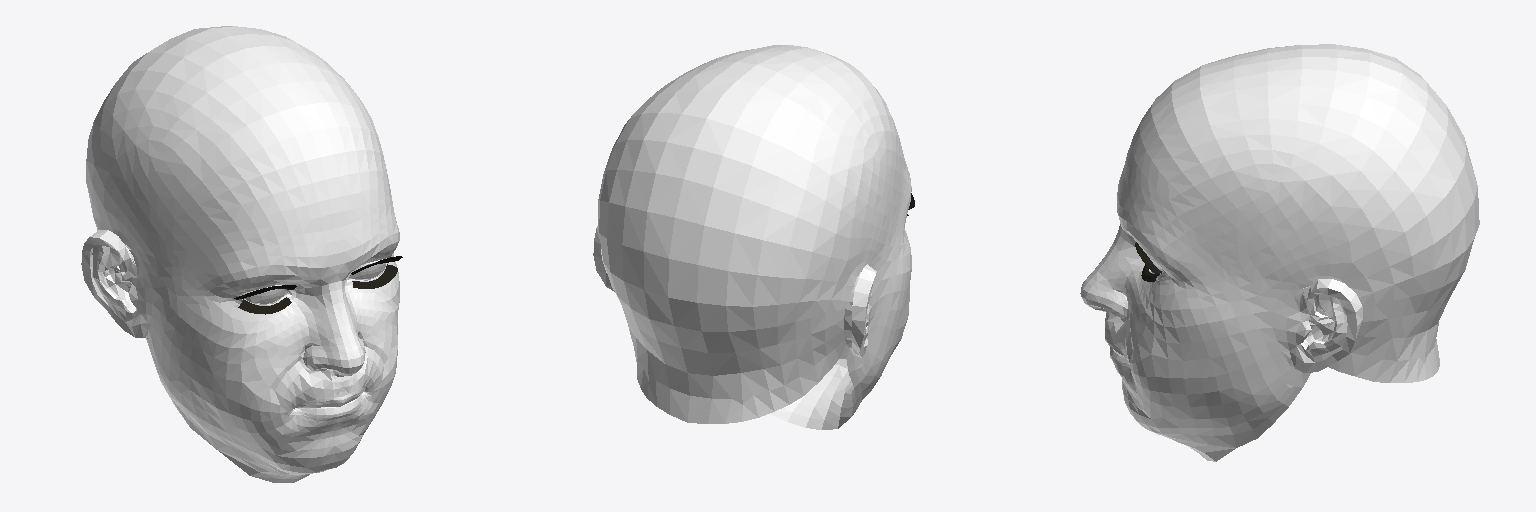
File: Fat.obj
The picture shows the model from 3 angles: view 1: azimuth 30°, elevation 25°; view 2: azimuth 150°, elevation 25°; view 3: azimuth 270°, elevation 25°; orthographic projection.
Visible parts, largest first — view 1: Genesis3Male; view 2: Genesis3Male; view 3: Genesis3Male.
Boxes of the visible parts, x1=… form: Genesis3Male: x1=81, y1=26, x2=402, y2=482; Genesis3Male: x1=593, y1=45, x2=914, y2=429; Genesis3Male: x1=1080, y1=44, x2=1479, y2=461.
Bounding box in the file's own units: 18.48 × 25.84 × 23.46.